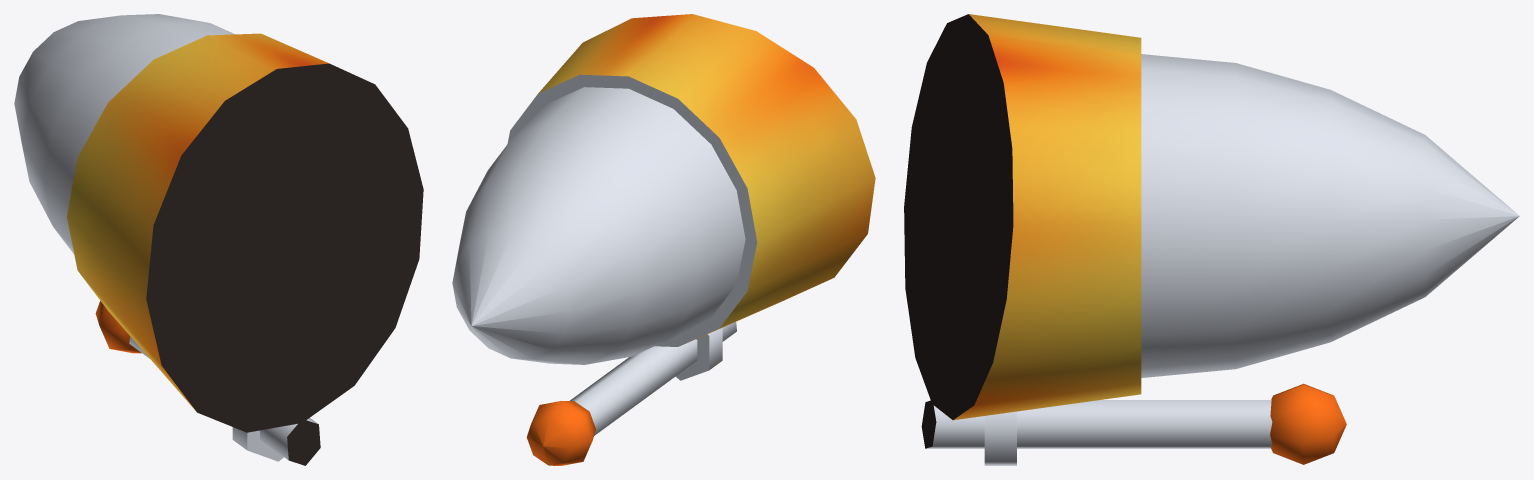
File: hotrod_debris1.obj
3 views of the same model, side by side, from view 1: azimuth 30°, elevation 25°; view 2: azimuth 150°, elevation 25°; view 3: azimuth 270°, elevation 25° (orthographic). The views are drawn at different scales.
Visible parts, largest first — view 1: hull, gun, gun_tip, gun_ring; view 2: hull, gun, gun_tip, gun_ring; view 3: hull, gun, gun_tip, gun_ring.
Part boxes in pixels (x1,y1,x2,y2): hull: (14, 14, 423, 432); gun: (129, 336, 320, 465); gun_tip: (95, 301, 141, 353); gun_ring: (232, 427, 283, 461); hull: (452, 14, 875, 364); gun: (570, 322, 736, 435); gun_tip: (526, 400, 595, 465); gun_ring: (675, 327, 722, 380); hull: (904, 14, 1519, 420); gun: (921, 400, 1272, 448); gun_tip: (1270, 383, 1346, 464); gun_ring: (984, 411, 1016, 465).
Size of the model in its own units: 1.51 by 1.76 by 2.28.
4 materials, 1 textured.
